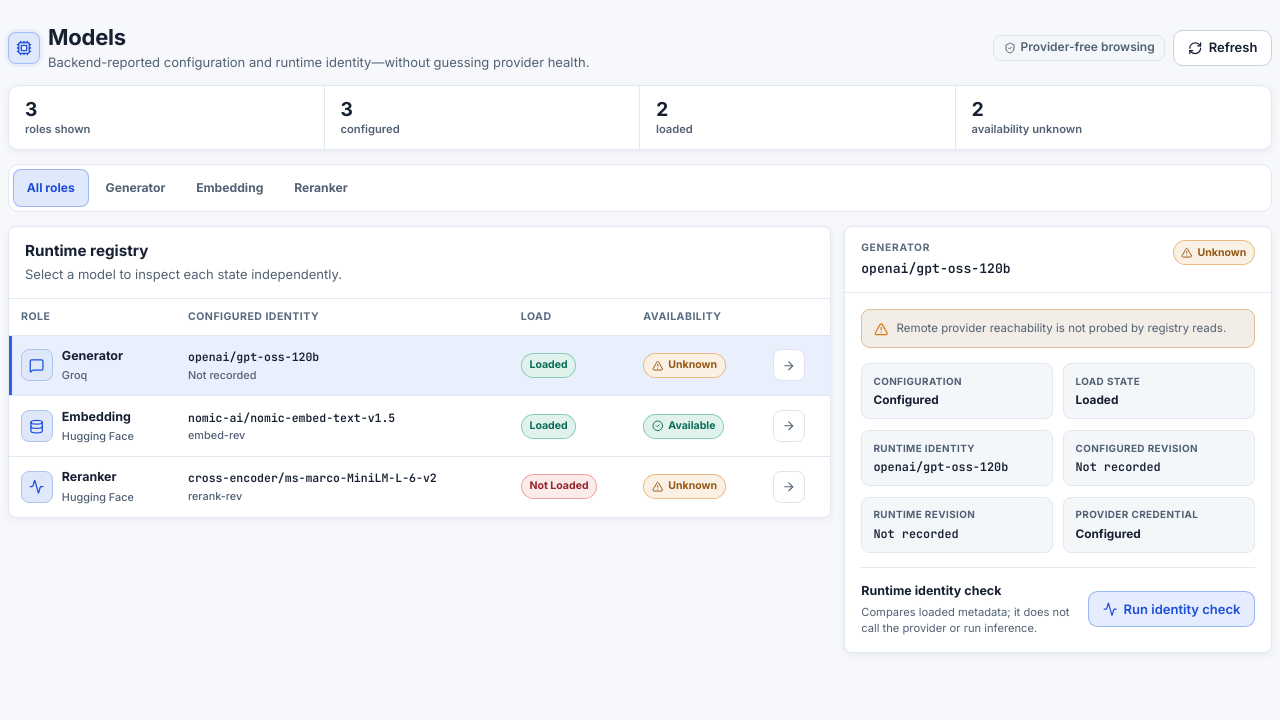
Test: ModelsConsole › a model test completion cannot cross into a newer selection
Step 1. Click the button "Run identity check" → (1172, 609), box [1088,591,1255,627]
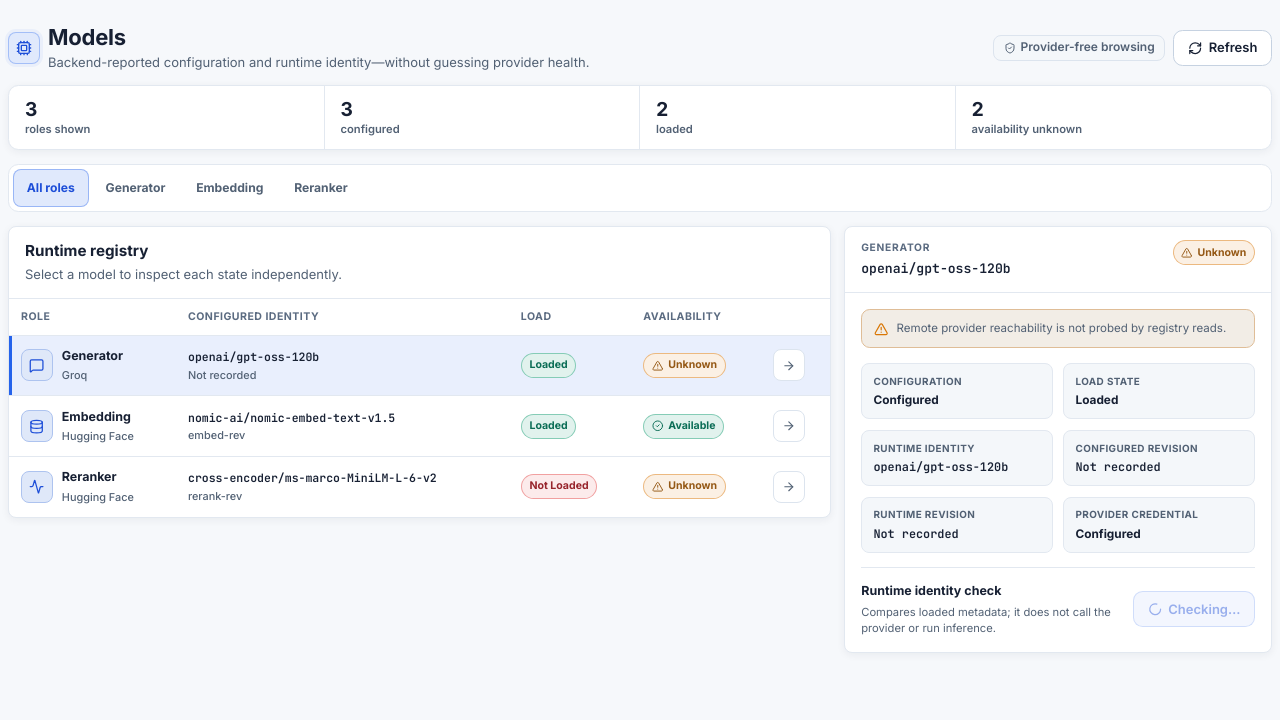
Step 2. Click the button named "Inspect Embedding" → (789, 426), box [773,410,805,442]
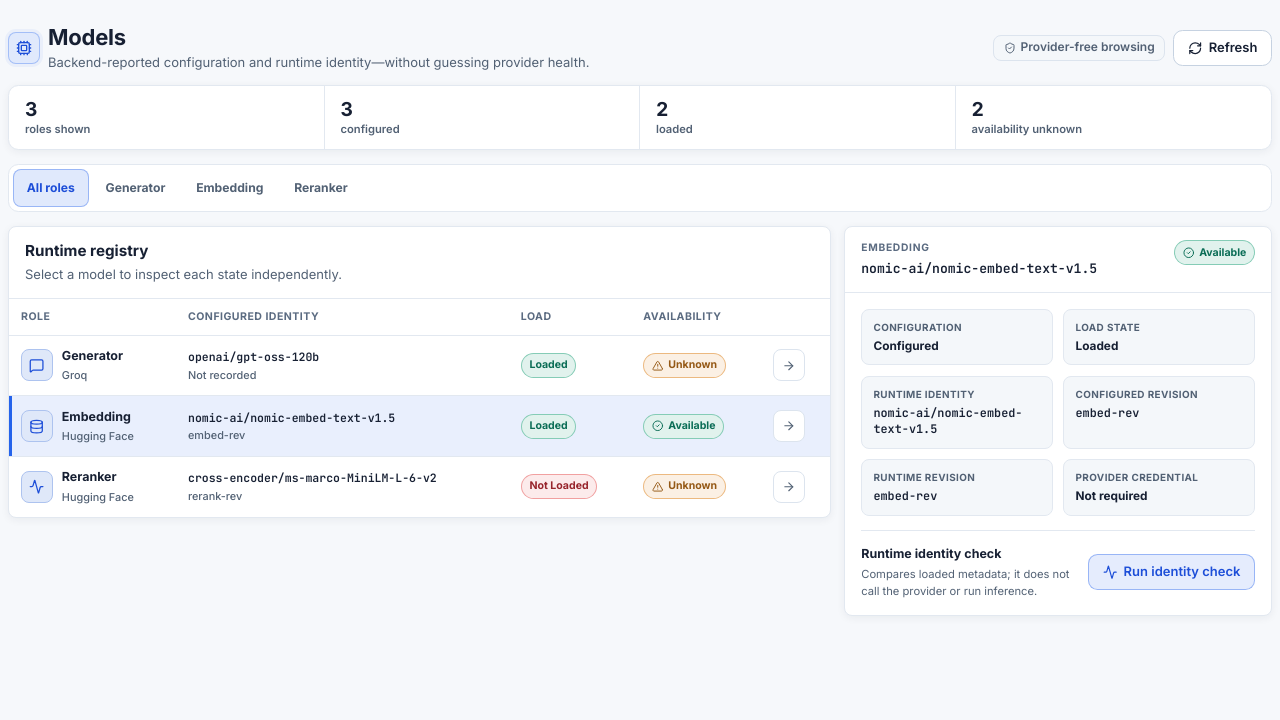
Check: the element named "Embedding details" is shown, box [844,226,1272,616]
